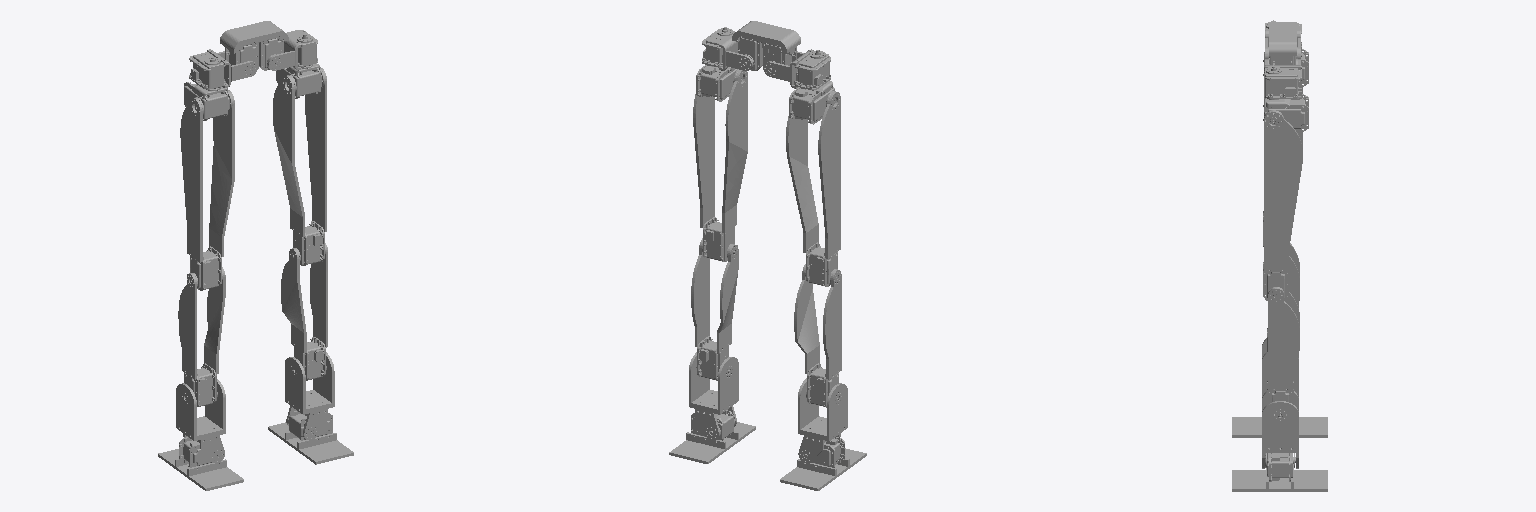
--- Facts derived from the render (not from the file) ---
The picture shows the robot from 3 angles, left to right: view 1: azimuth 30°, elevation 25°; view 2: azimuth 150°, elevation 25°; view 3: azimuth 270°, elevation 25°; orthographic projection.
Robot: abi — 15 links, 14 joints (10 revolute, 2 continuous, 2 fixed); root link base_link; default pose: all joints at 0.
Links seen in each view (by area): view 1: r_hip_pitch_link__1__1, l_hip_pitch_link__1__1, l_knee_pitch_link__1__1, r_knee_pitch_link__1__1, l_ankle_pitch_link__1__1, r_ankle_pitch_link__1__1, base_footprint, r_ankle_roll_link__1__1, l_ankle_roll_link__1__1, r_hip_roll_link_1, l_hip_roll_link__1__1, r_hip_yaw_link_1 (+1 smaller); view 2: r_hip_pitch_link__1__1, l_hip_pitch_link__1__1, r_knee_pitch_link__1__1, l_knee_pitch_link__1__1, l_ankle_pitch_link__1__1, r_ankle_pitch_link__1__1, base_footprint, r_ankle_roll_link__1__1, l_ankle_roll_link__1__1, r_hip_roll_link_1, l_hip_roll_link__1__1, r_hip_yaw_link_1 (+1 smaller); view 3: l_hip_pitch_link__1__1, l_knee_pitch_link__1__1, l_ankle_roll_link__1__1, l_ankle_pitch_link__1__1, l_hip_roll_link__1__1, base_footprint, r_ankle_roll_link__1__1, l_hip_yaw_link_1, r_knee_pitch_link__1__1.
Link boxes in pixels (x1,y1,x2,y2): r_hip_pitch_link__1__1: [180, 90, 234, 290]; l_hip_pitch_link__1__1: [273, 67, 326, 265]; l_knee_pitch_link__1__1: [281, 243, 327, 380]; r_knee_pitch_link__1__1: [178, 267, 225, 406]; l_ankle_pitch_link__1__1: [285, 352, 334, 440]; r_ankle_pitch_link__1__1: [176, 379, 225, 463]; base_footprint: [220, 21, 288, 71]; r_ankle_roll_link__1__1: [158, 437, 243, 490]; l_ankle_roll_link__1__1: [268, 411, 353, 464]; r_hip_roll_link_1: [189, 49, 257, 90]; l_hip_roll_link__1__1: [267, 30, 317, 70]; r_hip_yaw_link_1: [184, 82, 232, 120]; r_hip_pitch_link__1__1: [786, 91, 840, 286]; l_hip_pitch_link__1__1: [693, 70, 747, 261]; r_knee_pitch_link__1__1: [794, 264, 841, 407]; l_knee_pitch_link__1__1: [691, 238, 738, 380]; l_ankle_pitch_link__1__1: [689, 352, 738, 440]; r_ankle_pitch_link__1__1: [798, 378, 847, 463]; base_footprint: [732, 21, 800, 71]; r_ankle_roll_link__1__1: [780, 437, 866, 490]; l_ankle_roll_link__1__1: [669, 410, 755, 463]; r_hip_roll_link_1: [763, 49, 830, 89]; l_hip_roll_link__1__1: [702, 27, 753, 70]; r_hip_yaw_link_1: [789, 81, 835, 124]; l_hip_pitch_link__1__1: [1263, 111, 1302, 300]; l_knee_pitch_link__1__1: [1267, 287, 1299, 416]; l_ankle_roll_link__1__1: [1232, 453, 1327, 491]; l_ankle_pitch_link__1__1: [1262, 391, 1298, 468]; l_hip_roll_link__1__1: [1265, 59, 1301, 99]; base_footprint: [1268, 22, 1301, 68]; r_ankle_roll_link__1__1: [1232, 417, 1327, 437]; l_hip_yaw_link_1: [1263, 94, 1308, 131]; r_knee_pitch_link__1__1: [1267, 243, 1299, 351].
Size in the robot's own frame: 0.2315 by 0.13 by 0.6326 metres.
13 mesh visuals loaded from 13 distinct referenced files (13 binary STL).

The robot description file, URDF, robot "abi":
<?xml version="1.0" encoding="utf-8"?>
<!-- =================================================================================== -->
<!-- |    This document was autogenerated by xacro from abi.xacro                      | -->
<!-- |    EDITING THIS FILE BY HAND IS NOT RECOMMENDED                                 | -->
<!-- =================================================================================== -->
<robot name="abi">
  <material name="silver">
    <color rgba="0.700 0.700 0.700 1.000"/>
  </material>
  <transmission name="r_hip_roll_joint_tran">
    <type>transmission_interface/SimpleTransmission</type>
    <joint name="r_hip_roll_joint">
      <hardwareInterface>hardware_interface/EffortJointInterface</hardwareInterface>
    </joint>
    <actuator name="r_hip_roll_joint_actr">
      <hardwareInterface>hardware_interface/EffortJointInterface</hardwareInterface>
      <mechanicalReduction>1</mechanicalReduction>
    </actuator>
  </transmission>
  <transmission name="l_hip_roll_joint_tran">
    <type>transmission_interface/SimpleTransmission</type>
    <joint name="l_hip_roll_joint">
      <hardwareInterface>hardware_interface/EffortJointInterface</hardwareInterface>
    </joint>
    <actuator name="l_hip_roll_joint_actr">
      <hardwareInterface>hardware_interface/EffortJointInterface</hardwareInterface>
      <mechanicalReduction>1</mechanicalReduction>
    </actuator>
  </transmission>
  <transmission name="r_hip_yaw_joint_tran">
    <type>transmission_interface/SimpleTransmission</type>
    <joint name="r_hip_yaw_joint">
      <hardwareInterface>hardware_interface/EffortJointInterface</hardwareInterface>
    </joint>
    <actuator name="r_hip_yaw_joint_actr">
      <hardwareInterface>hardware_interface/EffortJointInterface</hardwareInterface>
      <mechanicalReduction>1</mechanicalReduction>
    </actuator>
  </transmission>
  <transmission name="l_hip_yaw_joint_tran">
    <type>transmission_interface/SimpleTransmission</type>
    <joint name="l_hip_yaw_joint">
      <hardwareInterface>hardware_interface/EffortJointInterface</hardwareInterface>
    </joint>
    <actuator name="l_hip_yaw_joint_actr">
      <hardwareInterface>hardware_interface/EffortJointInterface</hardwareInterface>
      <mechanicalReduction>1</mechanicalReduction>
    </actuator>
  </transmission>
  <transmission name="l_hip_pitch_joint_tran">
    <type>transmission_interface/SimpleTransmission</type>
    <joint name="l_hip_pitch_joint">
      <hardwareInterface>hardware_interface/EffortJointInterface</hardwareInterface>
    </joint>
    <actuator name="l_hip_pitch_joint_actr">
      <hardwareInterface>hardware_interface/EffortJointInterface</hardwareInterface>
      <mechanicalReduction>1</mechanicalReduction>
    </actuator>
  </transmission>
  <transmission name="r_hip_pitch_joint_tran">
    <type>transmission_interface/SimpleTransmission</type>
    <joint name="r_hip_pitch_joint">
      <hardwareInterface>hardware_interface/EffortJointInterface</hardwareInterface>
    </joint>
    <actuator name="r_hip_pitch_joint_actr">
      <hardwareInterface>hardware_interface/EffortJointInterface</hardwareInterface>
      <mechanicalReduction>1</mechanicalReduction>
    </actuator>
  </transmission>
  <transmission name="r_knee_pitch_joint_tran">
    <type>transmission_interface/SimpleTransmission</type>
    <joint name="r_knee_pitch_joint">
      <hardwareInterface>hardware_interface/EffortJointInterface</hardwareInterface>
    </joint>
    <actuator name="r_knee_pitch_joint_actr">
      <hardwareInterface>hardware_interface/EffortJointInterface</hardwareInterface>
      <mechanicalReduction>1</mechanicalReduction>
    </actuator>
  </transmission>
  <transmission name="l_knee_pitch_joint_tran">
    <type>transmission_interface/SimpleTransmission</type>
    <joint name="l_knee_pitch_joint">
      <hardwareInterface>hardware_interface/EffortJointInterface</hardwareInterface>
    </joint>
    <actuator name="l_knee_pitch_joint_actr">
      <hardwareInterface>hardware_interface/EffortJointInterface</hardwareInterface>
      <mechanicalReduction>1</mechanicalReduction>
    </actuator>
  </transmission>
  <transmission name="r_ankle_pitch_joint_tran">
    <type>transmission_interface/SimpleTransmission</type>
    <joint name="r_ankle_pitch_joint">
      <hardwareInterface>hardware_interface/EffortJointInterface</hardwareInterface>
    </joint>
    <actuator name="r_ankle_pitch_joint_actr">
      <hardwareInterface>hardware_interface/EffortJointInterface</hardwareInterface>
      <mechanicalReduction>1</mechanicalReduction>
    </actuator>
  </transmission>
  <transmission name="l_ankle_pitch_joint_tran">
    <type>transmission_interface/SimpleTransmission</type>
    <joint name="l_ankle_pitch_joint">
      <hardwareInterface>hardware_interface/EffortJointInterface</hardwareInterface>
    </joint>
    <actuator name="l_ankle_pitch_joint_actr">
      <hardwareInterface>hardware_interface/EffortJointInterface</hardwareInterface>
      <mechanicalReduction>1</mechanicalReduction>
    </actuator>
  </transmission>
  <transmission name="l_ankle_roll_joint_tran">
    <type>transmission_interface/SimpleTransmission</type>
    <joint name="l_ankle_roll_joint">
      <hardwareInterface>hardware_interface/EffortJointInterface</hardwareInterface>
    </joint>
    <actuator name="l_ankle_roll_joint_actr">
      <hardwareInterface>hardware_interface/EffortJointInterface</hardwareInterface>
      <mechanicalReduction>1</mechanicalReduction>
    </actuator>
  </transmission>
  <transmission name="r_ankle_roll_joint_tran">
    <type>transmission_interface/SimpleTransmission</type>
    <joint name="r_ankle_roll_joint">
      <hardwareInterface>hardware_interface/EffortJointInterface</hardwareInterface>
    </joint>
    <actuator name="r_ankle_roll_joint_actr">
      <hardwareInterface>hardware_interface/EffortJointInterface</hardwareInterface>
      <mechanicalReduction>1</mechanicalReduction>
    </actuator>
  </transmission>
  <gazebo>
    <plugin filename="libgazebo_ros_control.so" name="control"/>
  </gazebo>
  <gazebo>
    <plugin filename="libgazebo_ros_p3d.so" name="ground_truth">
      <frameName>map</frameName>
      <bodyName>base_link</bodyName>
      <topicName>/abi/odom</topicName>
      <updateRate>100.0</updateRate>
    </plugin>
  </gazebo>
  <!-- imu sensor -->
  <gazebo reference="imu_link">
    <gravity>true</gravity>
    <sensor name="imu_sensor" type="imu">
      <always_on>true</always_on>
      <update_rate>100</update_rate>
      <visualize>true</visualize>
      <topic>/abi/sensor/imu</topic>
      <plugin filename="libgazebo_ros_imu_sensor.so" name="imu_plugin">
        <topicName>abi/sensor/imu</topicName>
        <bodyName>imu_link</bodyName>
        <updateRateHZ>10.0</updateRateHZ>
        <gaussianNoise>0.0</gaussianNoise>
        <xyzOffset>0 0 0</xyzOffset>
        <rpyOffset>0 0 0</rpyOffset>
        <frameName>imu_link</frameName>
      </plugin>
      <pose>0 0 0 0 0 0</pose>
    </sensor>
  </gazebo>
  <!-- World -->
  <gazebo reference="world"/>
  <!-- Map -->
  <gazebo reference="map"/>
  <!-- Base -->
  <gazebo reference="base_link"/>
  <!-- IMU -->
  <gazebo reference="imu_link"/>
  <gazebo reference="base_link">
    <material>Gazebo/Silver</material>
    <mu1>0.2</mu1>
    <mu2>0.2</mu2>
    <selfCollide>true</selfCollide>
    <gravity>true</gravity>
  </gazebo>
  <gazebo reference="r_hip_roll_link_1">
    <material>Gazebo/Silver</material>
    <mu1>0.2</mu1>
    <mu2>0.2</mu2>
    <selfCollide>true</selfCollide>
  </gazebo>
  <gazebo reference="l_hip_roll_link__1__1">
    <material>Gazebo/Silver</material>
    <mu1>0.2</mu1>
    <mu2>0.2</mu2>
    <selfCollide>true</selfCollide>
  </gazebo>
  <gazebo reference="r_hip_yaw_link_1">
    <material>Gazebo/Silver</material>
    <mu1>0.2</mu1>
    <mu2>0.2</mu2>
    <selfCollide>true</selfCollide>
  </gazebo>
  <gazebo reference="l_hip_yaw_link_1">
    <material>Gazebo/Silver</material>
    <mu1>0.2</mu1>
    <mu2>0.2</mu2>
    <selfCollide>true</selfCollide>
  </gazebo>
  <gazebo reference="l_hip_pitch_link__1__1">
    <material>Gazebo/Silver</material>
    <mu1>0.2</mu1>
    <mu2>0.2</mu2>
    <selfCollide>true</selfCollide>
  </gazebo>
  <gazebo reference="r_hip_pitch_link__1__1">
    <material>Gazebo/Silver</material>
    <mu1>0.2</mu1>
    <mu2>0.2</mu2>
    <selfCollide>true</selfCollide>
  </gazebo>
  <gazebo reference="r_knee_pitch_link__1__1">
    <material>Gazebo/Silver</material>
    <mu1>0.2</mu1>
    <mu2>0.2</mu2>
    <selfCollide>true</selfCollide>
  </gazebo>
  <gazebo reference="l_knee_pitch_link__1__1">
    <material>Gazebo/Silver</material>
    <mu1>0.2</mu1>
    <mu2>0.2</mu2>
    <selfCollide>true</selfCollide>
  </gazebo>
  <gazebo reference="r_ankle_pitch_link__1__1">
    <material>Gazebo/Silver</material>
    <mu1>0.2</mu1>
    <mu2>0.2</mu2>
    <selfCollide>true</selfCollide>
  </gazebo>
  <gazebo reference="l_ankle_pitch_link__1__1">
    <material>Gazebo/Silver</material>
    <mu1>0.2</mu1>
    <mu2>0.2</mu2>
    <selfCollide>true</selfCollide>
  </gazebo>
  <gazebo reference="l_ankle_roll_link__1__1">
    <kp>100000.0</kp>
    <kd>100.0</kd>
    <mu1>1000</mu1>
    <mu2>1000</mu2>
    <!--<maxContacts>30</maxContacts>-->
    <fdir1>1 1 0</fdir1>
    <maxVel>1.0</maxVel>
    <minDepth>0.0001</minDepth>
    <material>Gazebo/Blue</material>
  </gazebo>
  <gazebo reference="r_ankle_roll_link__1__1">
    <kp>100000.0</kp>
    <kd>100.0</kd>
    <mu1>1000</mu1>
    <mu2>1000</mu2>
    <!--<maxContacts>30</maxContacts>-->
    <fdir1>1 1 0</fdir1>
    <maxVel>1.0</maxVel>
    <minDepth>0.0001</minDepth>
    <material>Gazebo/Blue</material>
  </gazebo>
  <link name="base_link"/>
  <joint name="base_fixed" type="fixed">
    <origin rpy="0 0 0" xyz="0 0 0"/>
    <parent link="base_link"/>
    <child link="base_footprint"/>
  </joint>
  <!-- base_link -->
  <link name="base_footprint">
    <inertial>
      <origin rpy="0 0 0" xyz="0.11526276092885947 0.0685580229960114 0.6049745000867683"/>
      <mass value="0.14056247189322119"/>
      <inertia ixx="5.4e-05" ixy="-0.0" ixz="-0.0" iyy="0.000105" iyz="0.0" izz="8.7e-05"/>
    </inertial>
    <visual>
      <origin rpy="0 0 0" xyz="0 0 0"/>
      <geometry>
        <mesh filename="package://abi_description/meshes/base_link.stl" scale="0.001 0.001 0.001"/>
      </geometry>
      <material name="silver"/>
    </visual>
    <collision>
      <origin rpy="0 0 0" xyz="0 0 0"/>
      <geometry>
        <mesh filename="package://abi_description/meshes/base_link.stl" scale="0.001 0.001 0.001"/>
      </geometry>
    </collision>
  </link>
  <!-- imu joint -->
  <joint name="imu_fixed" type="fixed">
    <origin rpy="0 0 0" xyz="0.0 0 0.63"/>
    <parent link="base_footprint"/>
    <child link="imu_link"/>
  </joint>
  <link name="imu_link"/>
  <link name="r_hip_roll_link_1">
    <inertial>
      <origin rpy="0 0 0" xyz="-0.0455984855206972 0.019492903051518427 0.0001803076313984242"/>
      <mass value="0.07674208804659018"/>
      <inertia ixx="2.5e-05" ixy="-1e-06" ixz="0.0" iyy="2.7e-05" iyz="0.0" izz="3.4e-05"/>
    </inertial>
    <visual>
      <origin rpy="0 0 0" xyz="-0.095665 -0.048506 -0.588984"/>
      <geometry>
        <mesh filename="package://abi_description/meshes/r_hip_roll_link_1.stl" scale="0.001 0.001 0.001"/>
      </geometry>
      <material name="silver"/>
    </visual>
    <collision>
      <origin rpy="0 0 0" xyz="-0.095665 -0.048506 -0.588984"/>
      <geometry>
        <mesh filename="package://abi_description/meshes/r_hip_roll_link_1.stl" scale="0.001 0.001 0.001"/>
      </geometry>
    </collision>
  </link>
  <link name="l_hip_roll_link__1__1">
    <inertial>
      <origin rpy="0 0 0" xyz="0.04556544500909446 0.019492904189384326 0.0001803453115176712"/>
      <mass value="0.11897998147005992"/>
      <inertia ixx="3.9e-05" ixy="1e-06" ixz="-0.0" iyy="4.2e-05" iyz="0.0" izz="5.3e-05"/>
    </inertial>
    <visual>
      <origin rpy="0 0 0" xyz="-0.134824 -0.048506 -0.588984"/>
      <geometry>
        <mesh filename="package://abi_description/meshes/l_hip_roll_link__1__1.stl" scale="0.001 0.001 0.001"/>
      </geometry>
      <material name="silver"/>
    </visual>
    <collision>
      <origin rpy="0 0 0" xyz="-0.134824 -0.048506 -0.588984"/>
      <geometry>
        <mesh filename="package://abi_description/meshes/l_hip_roll_link__1__1.stl" scale="0.001 0.001 0.001"/>
      </geometry>
    </collision>
  </link>
  <link name="r_hip_yaw_link_1">
    <inertial>
      <origin rpy="0 0 0" xyz="0.00010070088882587619 0.014546186099299342 -0.02316980321419737"/>
      <mass value="0.15342441399034815"/>
      <inertia ixx="5.4e-05" ixy="-1e-06" ixz="0.0" iyy="3.9e-05" iyz="1e-06" izz="6.4e-05"/>
    </inertial>
    <visual>
      <origin rpy="0 0 0" xyz="-0.043165 -0.056556 -0.569234"/>
      <geometry>
        <mesh filename="package://abi_description/meshes/r_hip_yaw_link_1.stl" scale="0.001 0.001 0.001"/>
      </geometry>
      <material name="silver"/>
    </visual>
    <collision>
      <origin rpy="0 0 0" xyz="-0.043165 -0.056556 -0.569234"/>
      <geometry>
        <mesh filename="package://abi_description/meshes/r_hip_yaw_link_1.stl" scale="0.001 0.001 0.001"/>
      </geometry>
    </collision>
  </link>
  <link name="l_hip_yaw_link_1">
    <inertial>
      <origin rpy="0 0 0" xyz="0.00010068460047474304 0.014546186099300383 -0.023169803214203477"/>
      <mass value="0.15342441399034815"/>
      <inertia ixx="5.4e-05" ixy="-1e-06" ixz="0.0" iyy="3.9e-05" iyz="1e-06" izz="6.4e-05"/>
    </inertial>
    <visual>
      <origin rpy="0 0 0" xyz="-0.187324 -0.056556 -0.569234"/>
      <geometry>
        <mesh filename="package://abi_description/meshes/l_hip_yaw_link_1.stl" scale="0.001 0.001 0.001"/>
      </geometry>
      <material name="silver"/>
    </visual>
    <collision>
      <origin rpy="0 0 0" xyz="-0.187324 -0.056556 -0.569234"/>
      <geometry>
        <mesh filename="package://abi_description/meshes/l_hip_yaw_link_1.stl" scale="0.001 0.001 0.001"/>
      </geometry>
    </collision>
  </link>
  <link name="l_hip_pitch_link__1__1">
    <inertial>
      <origin rpy="0 0 0" xyz="0.027708594764509903 0.006582375867326427 -0.15609272532253105"/>
      <mass value="0.24713382283834445"/>
      <inertia ixx="0.001846" ixy="3e-06" ixz="7.5e-05" iyy="0.001908" iyz="-6.3e-05" izz="0.000133"/>
    </inertial>
    <visual>
      <origin rpy="0 0 0" xyz="-0.163824 -0.056556 -0.545234"/>
      <geometry>
        <mesh filename="package://abi_description/meshes/l_hip_pitch_link__1__1.stl" scale="0.001 0.001 0.001"/>
      </geometry>
      <material name="silver"/>
    </visual>
    <collision>
      <origin rpy="0 0 0" xyz="-0.163824 -0.056556 -0.545234"/>
      <geometry>
        <mesh filename="package://abi_description/meshes/l_hip_pitch_link__1__1.stl" scale="0.001 0.001 0.001"/>
      </geometry>
    </collision>
  </link>
  <link name="r_hip_pitch_link__1__1">
    <inertial>
      <origin rpy="0 0 0" xyz="0.018635580884218798 0.006566387842180062 -0.15609272532252366"/>
      <mass value="0.24713382283834584"/>
      <inertia ixx="0.001846" ixy="-3e-06" ixz="-7.5e-05" iyy="0.001908" iyz="-6.3e-05" izz="0.000133"/>
    </inertial>
    <visual>
      <origin rpy="0 0 0" xyz="-0.019665 -0.056556 -0.545234"/>
      <geometry>
        <mesh filename="package://abi_description/meshes/r_hip_pitch_link__1__1.stl" scale="0.001 0.001 0.001"/>
      </geometry>
      <material name="silver"/>
    </visual>
    <collision>
      <origin rpy="0 0 0" xyz="-0.019665 -0.056556 -0.545234"/>
      <geometry>
        <mesh filename="package://abi_description/meshes/r_hip_pitch_link__1__1.stl" scale="0.001 0.001 0.001"/>
      </geometry>
    </collision>
  </link>
  <link name="r_knee_pitch_link__1__1">
    <inertial>
      <origin rpy="0 0 0" xyz="0.016591422554264136 0.006747467516479193 -0.11920942018274272"/>
      <mass value="0.17499149080025025"/>
      <inertia ixx="0.000544" ixy="-1e-06" ixz="-2e-05" iyy="0.000575" iyz="-6e-06" izz="6.4e-05"/>
    </inertial>
    <visual>
      <origin rpy="0 0 0" xyz="-0.014615 -0.0599 -0.2868"/>
      <geometry>
        <mesh filename="package://abi_description/meshes/r_knee_pitch_link__1__1.stl" scale="0.001 0.001 0.001"/>
      </geometry>
      <material name="silver"/>
    </visual>
    <collision>
      <origin rpy="0 0 0" xyz="-0.014615 -0.0599 -0.2868"/>
      <geometry>
        <mesh filename="package://abi_description/meshes/r_knee_pitch_link__1__1.stl" scale="0.001 0.001 0.001"/>
      </geometry>
    </collision>
  </link>
  <link name="l_knee_pitch_link__1__1">
    <inertial>
      <origin rpy="0 0 0" xyz="-0.016591246905534235 0.0067700467959229335 -0.11920942018275008"/>
      <mass value="0.17499149080025042"/>
      <inertia ixx="0.000544" ixy="1e-06" ixz="2e-05" iyy="0.000575" iyz="-6e-06" izz="6.4e-05"/>
    </inertial>
    <visual>
      <origin rpy="0 0 0" xyz="-0.215218 -0.0599 -0.2868"/>
      <geometry>
        <mesh filename="package://abi_description/meshes/l_knee_pitch_link__1__1.stl" scale="0.001 0.001 0.001"/>
      </geometry>
      <material name="silver"/>
    </visual>
    <collision>
      <origin rpy="0 0 0" xyz="-0.215218 -0.0599 -0.2868"/>
      <geometry>
        <mesh filename="package://abi_description/meshes/l_knee_pitch_link__1__1.stl" scale="0.001 0.001 0.001"/>
      </geometry>
    </collision>
  </link>
  <link name="r_ankle_pitch_link__1__1">
    <inertial>
      <origin rpy="0 0 0" xyz="0.02148738924453114 2.238487173400472e-14 -0.039819701337625094"/>
      <mass value="0.43867923251173946"/>
      <inertia ixx="0.000382" ixy="0.0" ixz="1.6e-05" iyy="0.00041" iyz="-0.0" izz="0.000239"/>
    </inertial>
    <visual>
      <origin rpy="0 0 0" xyz="-0.009565 -0.0657 -0.111"/>
      <geometry>
        <mesh filename="package://abi_description/meshes/r_ankle_pitch_link__1__1.stl" scale="0.001 0.001 0.001"/>
      </geometry>
      <material name="silver"/>
    </visual>
    <collision>
      <origin rpy="0 0 0" xyz="-0.009565 -0.0657 -0.111"/>
      <geometry>
        <mesh filename="package://abi_description/meshes/r_ankle_pitch_link__1__1.stl" scale="0.001 0.001 0.001"/>
      </geometry>
    </collision>
  </link>
  <link name="l_ankle_pitch_link__1__1">
    <inertial>
      <origin rpy="0 0 0" xyz="-0.021029577352662004 1.1560891133299833e-11 -0.03981971305451969"/>
      <mass value="0.4386795234282766"/>
      <inertia ixx="0.000382" ixy="0.0" ixz="-1e-05" iyy="0.000409" iyz="-0.0" izz="0.000238"/>
    </inertial>
    <visual>
      <origin rpy="0 0 0" xyz="-0.220268 -0.0657 -0.111"/>
      <geometry>
        <mesh filename="package://abi_description/meshes/l_ankle_pitch_link__1__1.stl" scale="0.001 0.001 0.001"/>
      </geometry>
      <material name="silver"/>
    </visual>
    <collision>
      <origin rpy="0 0 0" xyz="-0.220268 -0.0657 -0.111"/>
      <geometry>
        <mesh filename="package://abi_description/meshes/l_ankle_pitch_link__1__1.stl" scale="0.001 0.001 0.001"/>
      </geometry>
    </collision>
  </link>
  <link name="l_ankle_roll_link__1__1">
    <inertial>
      <origin rpy="0 0 0" xyz="0.011716076785898283 0.01990502610878888 -0.01073478983305472"/>
      <mass value="0.10409112257089649"/>
      <inertia ixx="8.4e-05" ixy="0.0" ixz="1e-06" iyy="4.3e-05" iyz="-0.0" izz="8.9e-05"/>
    </inertial>
    <visual>
      <origin rpy="0 0 0" xyz="-0.188973 -0.0452 -0.027"/>
      <geometry>
        <mesh filename="package://abi_description/meshes/l_ankle_roll_link__1__1.stl" scale="0.001 0.001 0.001"/>
      </geometry>
      <material name="silver"/>
    </visual>
    <collision>
      <origin rpy="0 0 0" xyz="-0.188973 -0.0452 -0.027"/>
      <geometry>
        <mesh filename="package://abi_description/meshes/l_ankle_roll_link__1__1.stl" scale="0.001 0.001 0.001"/>
      </geometry>
    </collision>
  </link>
  <link name="r_ankle_roll_link__1__1">
    <inertial>
      <origin rpy="0 0 0" xyz="-0.01171601249972238 0.019905026108781483 -0.010710304141445231"/>
      <mass value="0.10409112257090966"/>
      <inertia ixx="8.4e-05" ixy="-0.0" ixz="-1e-06" iyy="4.3e-05" iyz="-0.0" izz="8.9e-05"/>
    </inertial>
    <visual>
      <origin rpy="0 0 0" xyz="-0.0425 -0.0452 -0.027"/>
      <geometry>
        <mesh filename="package://abi_description/meshes/r_ankle_roll_link__1__1.stl" scale="0.001 0.001 0.001"/>
      </geometry>
      <material name="silver"/>
    </visual>
    <collision>
      <origin rpy="0 0 0" xyz="-0.0425 -0.0452 -0.027"/>
      <geometry>
        <mesh filename="package://abi_description/meshes/r_ankle_roll_link__1__1.stl" scale="0.001 0.001 0.001"/>
      </geometry>
    </collision>
  </link>
  <joint name="r_hip_roll_joint" type="revolute">
    <origin rpy="0 0 0" xyz="0.095665 0.048506 0.588984"/>
    <parent link="base_footprint"/>
    <child link="r_hip_roll_link_1"/>
    <axis xyz="0.0 -1.0 0.0"/>
    <limit effort="100" lower="-0.349066" upper="0.174533" velocity="100"/>
  </joint>
  <joint name="l_hip_roll_joint" type="revolute">
    <origin rpy="0 0 0" xyz="0.134824 0.048506 0.588984"/>
    <parent link="base_footprint"/>
    <child link="l_hip_roll_link__1__1"/>
    <axis xyz="0.0 -1.0 0.0"/>
    <limit effort="100" lower="-0.174533" upper="0.349066" velocity="100"/>
  </joint>
  <joint name="r_hip_yaw_joint" type="revolute">
    <origin rpy="0 0 0" xyz="-0.0525 0.00805 -0.01975"/>
    <parent link="r_hip_roll_link_1"/>
    <child link="r_hip_yaw_link_1"/>
    <axis xyz="-0.0 -0.0 -1.0"/>
    <limit effort="100" lower="-1.570796" upper="1.570796" velocity="100"/>
  </joint>
  <joint name="l_hip_yaw_joint" type="revolute">
    <origin rpy="0 0 0" xyz="0.0525 0.00805 -0.01975"/>
    <parent link="l_hip_roll_link__1__1"/>
    <child link="l_hip_yaw_link_1"/>
    <axis xyz="-0.0 -0.0 -1.0"/>
    <limit effort="100" lower="-1.570796" upper="1.570796" velocity="100"/>
  </joint>
  <joint name="l_hip_pitch_joint" type="continuous">
    <origin rpy="0 0 0" xyz="-0.0235 0.0 -0.024"/>
    <parent link="l_hip_yaw_link_1"/>
    <child link="l_hip_pitch_link__1__1"/>
    <axis xyz="-1.0 -0.0 -0.0"/>
  </joint>
  <joint name="r_hip_pitch_joint" type="continuous">
    <origin rpy="0 0 0" xyz="-0.0235 0.0 -0.024"/>
    <parent link="r_hip_yaw_link_1"/>
    <child link="r_hip_pitch_link__1__1"/>
    <axis xyz="-1.0 -0.0 -0.0"/>
  </joint>
  <joint name="r_knee_pitch_joint" type="revolute">
    <origin rpy="0 0 0" xyz="-0.00505 0.003344 -0.258434"/>
    <parent link="r_hip_pitch_link__1__1"/>
    <child link="r_knee_pitch_link__1__1"/>
    <axis xyz="-1.0 -0.0 -0.0"/>
    <limit effort="100" lower="-1.919862" upper="0.174533" velocity="100"/>
  </joint>
  <joint name="l_knee_pitch_joint" type="revolute">
    <origin rpy="0 0 0" xyz="0.051394 0.003344 -0.258434"/>
    <parent link="l_hip_pitch_link__1__1"/>
    <child link="l_knee_pitch_link__1__1"/>
    <axis xyz="1.0 0.0 0.0"/>
    <limit effort="100" lower="-0.174533" upper="1.919862" velocity="100"/>
  </joint>
  <joint name="r_ankle_pitch_joint" type="revolute">
    <origin rpy="0 0 0" xyz="-0.00505 0.0058 -0.1758"/>
    <parent link="r_knee_pitch_link__1__1"/>
    <child link="r_ankle_pitch_link__1__1"/>
    <axis xyz="-1.0 -0.0 -0.0"/>
    <limit effort="100" lower="-0.785398" upper="0.785398" velocity="100"/>
  </joint>
  <joint name="l_ankle_pitch_joint" type="revolute">
    <origin rpy="0 0 0" xyz="0.00505 0.0058 -0.1758"/>
    <parent link="l_knee_pitch_link__1__1"/>
    <child link="l_ankle_pitch_link__1__1"/>
    <axis xyz="1.0 -0.0 0.0"/>
    <limit effort="100" lower="-0.785398" upper="0.785398" velocity="100"/>
  </joint>
  <joint name="l_ankle_roll_joint" type="revolute">
    <origin rpy="0 0 0" xyz="-0.031295 -0.0205 -0.084"/>
    <parent link="l_ankle_pitch_link__1__1"/>
    <child link="l_ankle_roll_link__1__1"/>
    <axis xyz="-0.0 1.0 -0.0"/>
    <limit effort="100" lower="-0.174533" upper="0.785398" velocity="100"/>
  </joint>
  <joint name="r_ankle_roll_joint" type="revolute">
    <origin rpy="0 0 0" xyz="0.032935 -0.0205 -0.084"/>
    <parent link="r_ankle_pitch_link__1__1"/>
    <child link="r_ankle_roll_link__1__1"/>
    <axis xyz="-0.0 1.0 -0.0"/>
    <limit effort="100" lower="-0.785398" upper="0.174533" velocity="100"/>
  </joint>
</robot>
